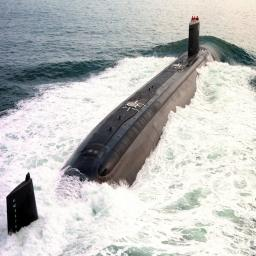submarine: (6, 12, 226, 242)
